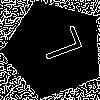L: (29, 24, 83, 67)
